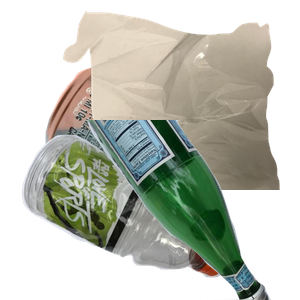glass: (75, 120, 300, 300)
metal: (43, 58, 283, 238)
plastic: (19, 132, 242, 300)
trash: (61, 10, 300, 190)
